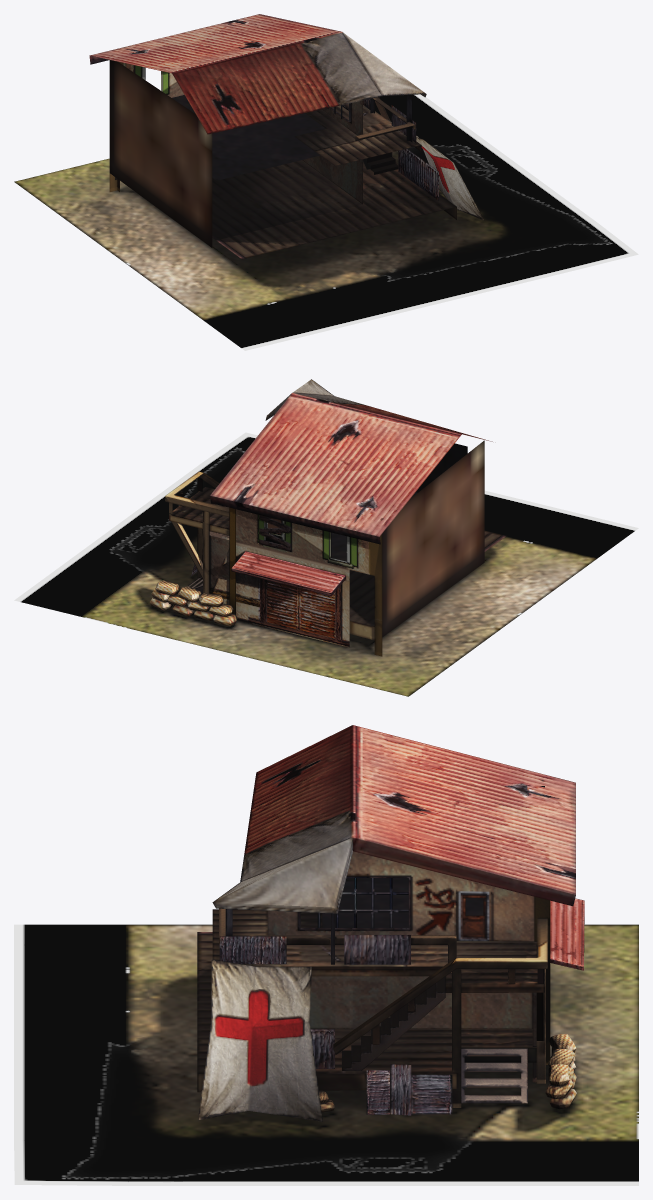
The model's file is yiyuan.FBX.
3 renders of one model, top to bottom at view 1: azimuth 30°, elevation 25°; view 2: azimuth 150°, elevation 25°; view 3: azimuth 270°, elevation 25°, orthographic. The views are drawn at different scales.
Visible parts, largest first — view 1: Hospital_002, yiyuan; view 2: Hospital_002, yiyuan; view 3: Hospital_002, yiyuan.
Part boxes in pixels (x1=…): Hospital_002: x1=89, y1=14, x2=484, y2=259; yiyuan: x1=14, y1=94, x2=638, y2=350; Hospital_002: x1=149, y1=379, x2=506, y2=656; yiyuan: x1=14, y1=432, x2=638, y2=696; Hospital_002: x1=197, y1=725, x2=584, y2=1121; yiyuan: x1=14, y1=924, x2=638, y2=1185.
Size of the model in its own units: 352 by 153 by 356.
